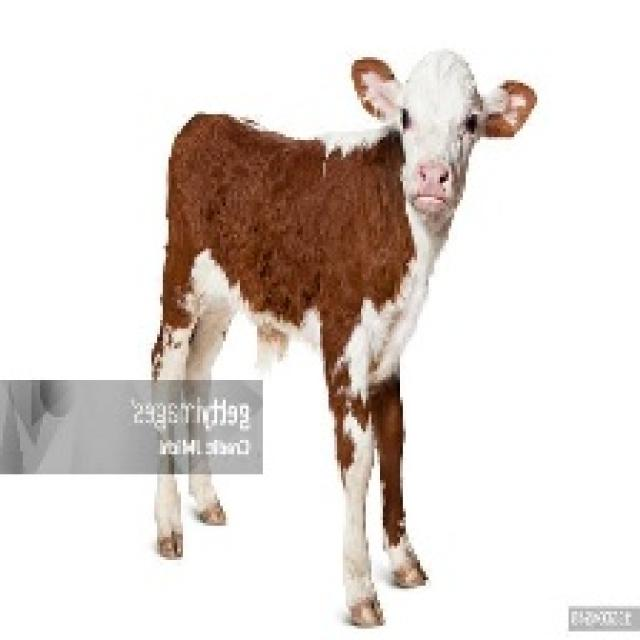animal: (116, 43, 576, 602)
